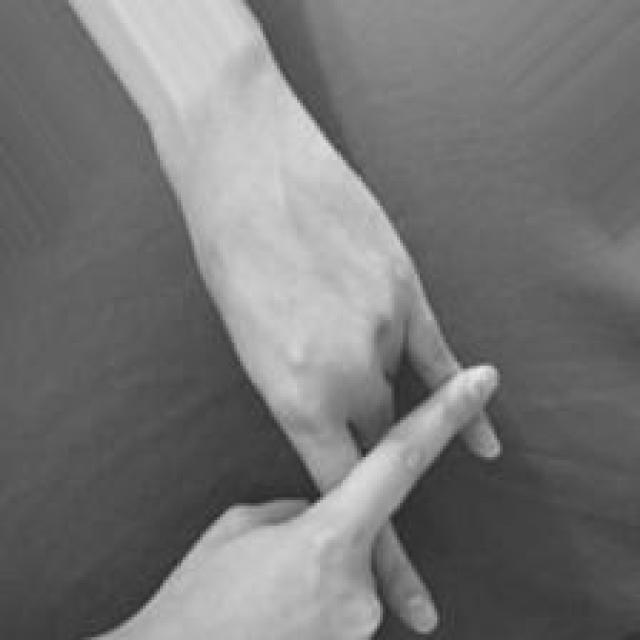H: (104, 195, 508, 640)
